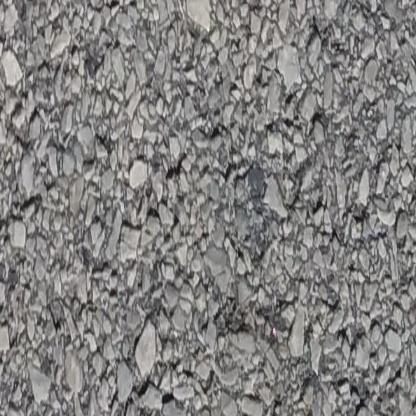Cracks: (88, 0, 197, 283), (0, 0, 32, 416)
